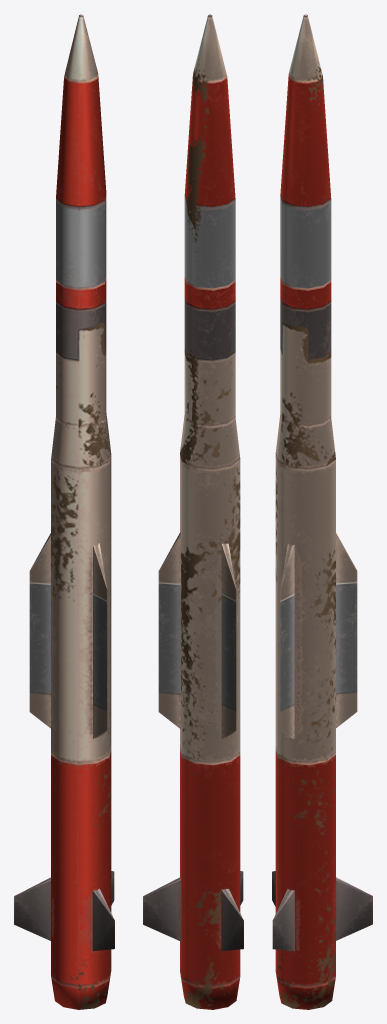
File: ThunderJaw_Robot_Patriot.fbx
3 views of the same model, side by side, from view 1: azimuth 30°, elevation 25°; view 2: azimuth 150°, elevation 25°; view 3: azimuth 330°, elevation 25° (orthographic).
Parts seen in each view (by area): view 1: ThunderJaw:ThunderJawPatriot_geo; view 2: ThunderJaw:ThunderJawPatriot_geo; view 3: ThunderJaw:ThunderJawPatriot_geo.
Part boxes in pixels (x1,y1,x2,y2): ThunderJaw:ThunderJawPatriot_geo: (14, 14, 114, 1009); ThunderJaw:ThunderJawPatriot_geo: (143, 14, 243, 1009); ThunderJaw:ThunderJawPatriot_geo: (272, 14, 372, 1009).
Size of the model in its own units: 29.97 by 280 by 26.02.
